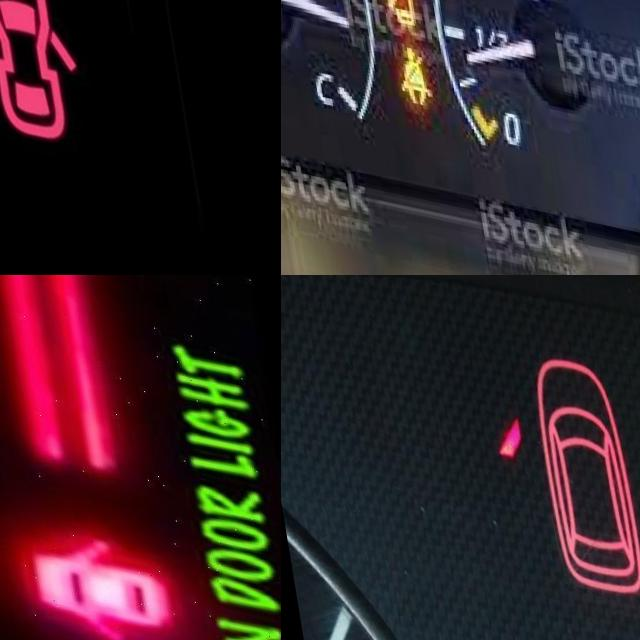Seat Belt: (380, 29, 426, 96)
